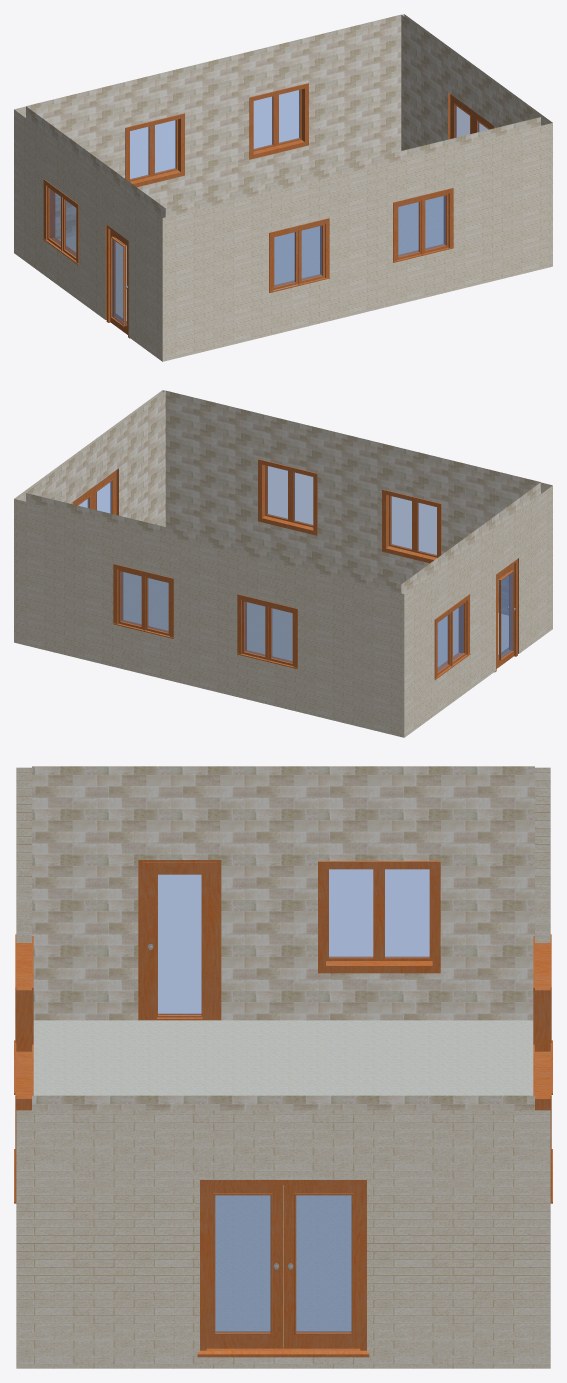
File: telhado33a.gltf
The picture shows the model from 3 angles, top to bottom: view 1: azimuth 30°, elevation 25°; view 2: azimuth 150°, elevation 25°; view 3: azimuth 270°, elevation 25°; orthographic projection. The views are drawn at different scales.
Size of the model in its own units: 8.86 by 3.23 by 5.85.
8 materials, 5 textured.
